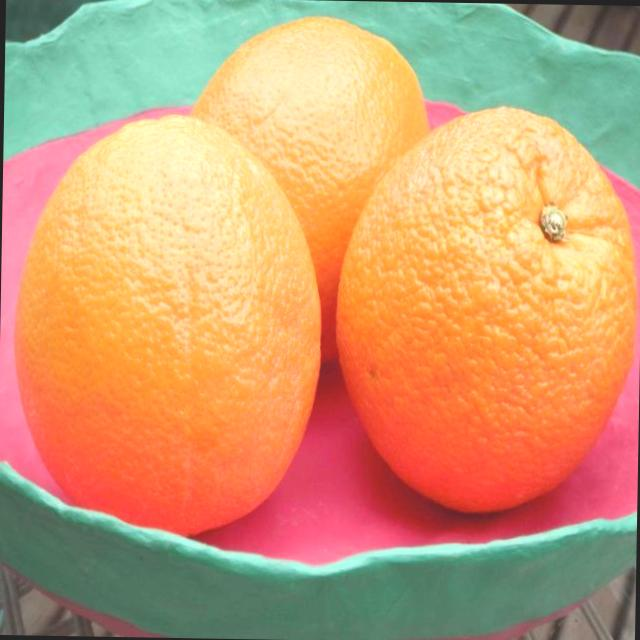Orange: (10, 110, 327, 538), (331, 101, 640, 516), (186, 12, 433, 365)
